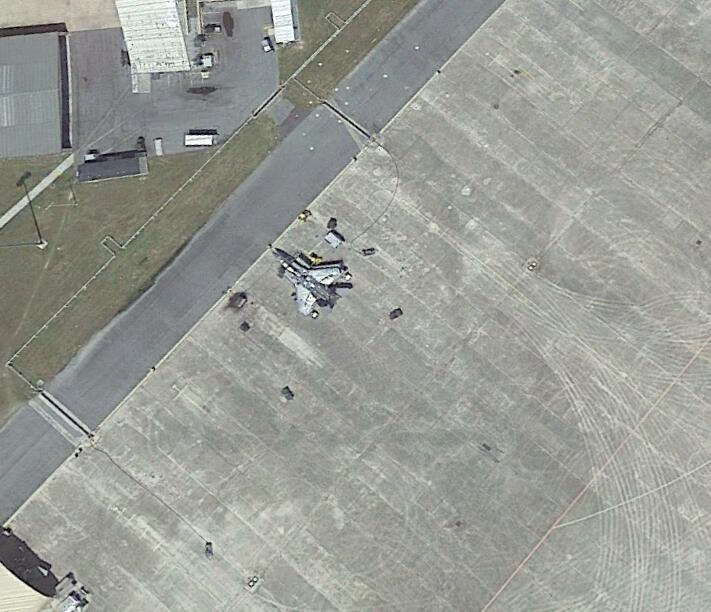A13: (269, 250, 353, 318)
